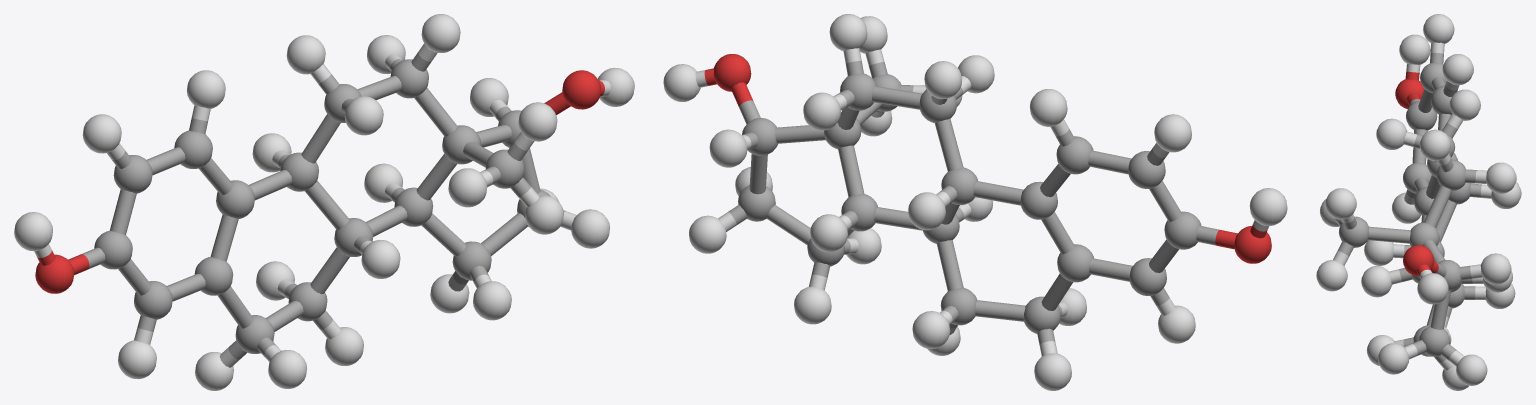
Rendered from estradiol-bas.glb.
The picture shows the model from 3 angles, left to right: view 1: azimuth 30°, elevation 25°; view 2: azimuth 150°, elevation 25°; view 3: azimuth 270°, elevation 25°; orthographic projection. The views are drawn at different scales.
Visible parts, largest first — view 1: estradiol-bas; view 2: estradiol-bas; view 3: estradiol-bas.
Part boxes in pixels (x1,y1,x2,y2): estradiol-bas: (14,14,634,390); estradiol-bas: (663,14,1287,390); estradiol-bas: (1316,14,1521,390).
Bounding box in the file's own units: 12.88 × 6.4 × 4.56.
